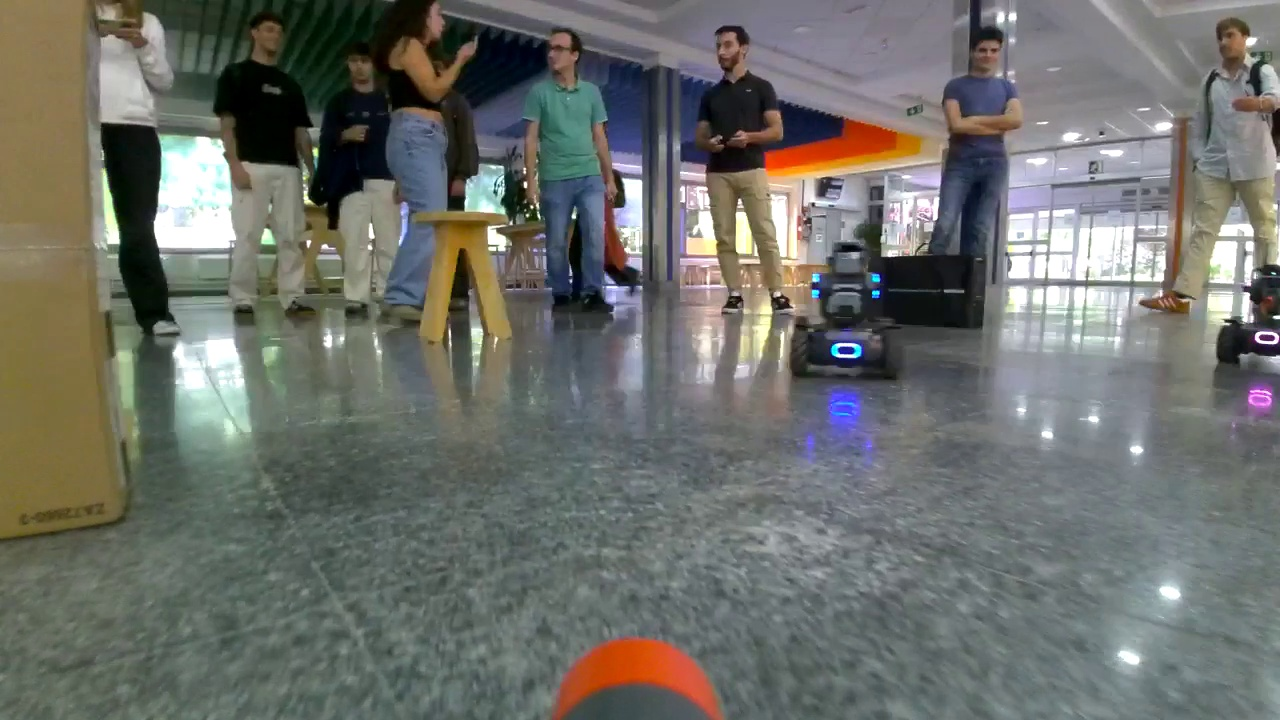robot: (789, 242, 903, 379), (1216, 271, 1280, 368)
